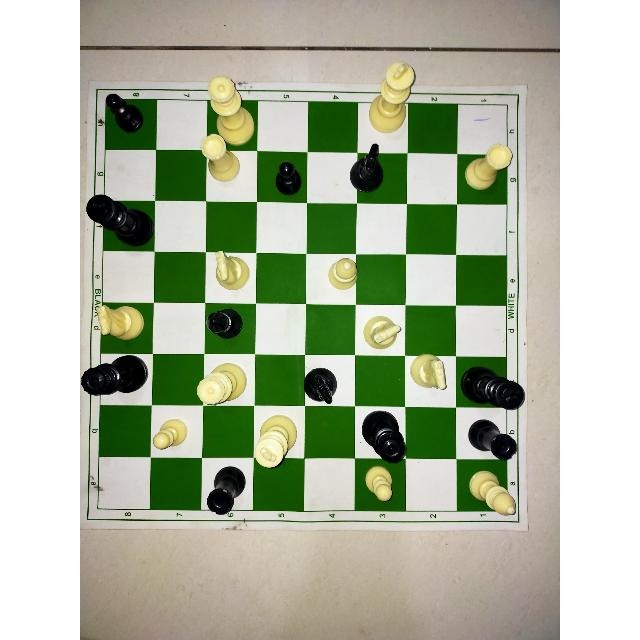black-bishop: (201, 300, 245, 344)
black-king: (87, 192, 159, 249), (462, 361, 526, 410)
black-knight: (347, 139, 386, 198), (300, 363, 344, 409)
black-pawn: (100, 88, 148, 133), (274, 158, 306, 199)
black-queen: (457, 361, 526, 413), (80, 353, 151, 401), (361, 409, 415, 464)
black-rook: (465, 418, 520, 463), (203, 465, 249, 517)
white-bishop: (468, 468, 520, 518), (325, 250, 364, 294)
white-king: (362, 55, 418, 137), (251, 411, 302, 475)
white-knight: (91, 296, 151, 346), (209, 249, 257, 295), (360, 312, 406, 354), (409, 350, 449, 398)
white-pawn: (149, 412, 191, 457), (360, 461, 398, 505)
white-queen: (205, 77, 258, 149), (193, 359, 249, 409)
white-rook: (461, 142, 515, 194), (200, 128, 241, 184)
